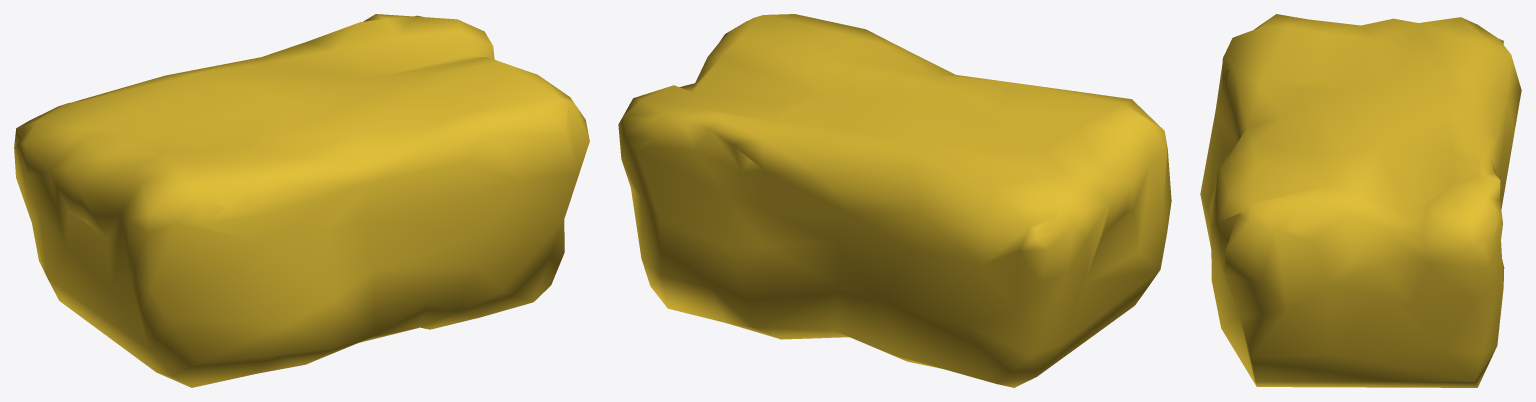
Rendered from Hay2.fbx.
The picture shows the model from 3 angles, left to right: view 1: azimuth 30°, elevation 25°; view 2: azimuth 150°, elevation 25°; view 3: azimuth 270°, elevation 25°; orthographic projection. The views are drawn at different scales.
Parts seen in each view (by area): view 1: hay; view 2: hay; view 3: hay.
Part boxes in pixels (left/top/right/bottom): hay: left=14, top=14, right=589, bottom=387; hay: left=618, top=14, right=1171, bottom=387; hay: left=1200, top=14, right=1521, bottom=387.
Size of the model in its own units: 119 by 56.11 by 75.58.
